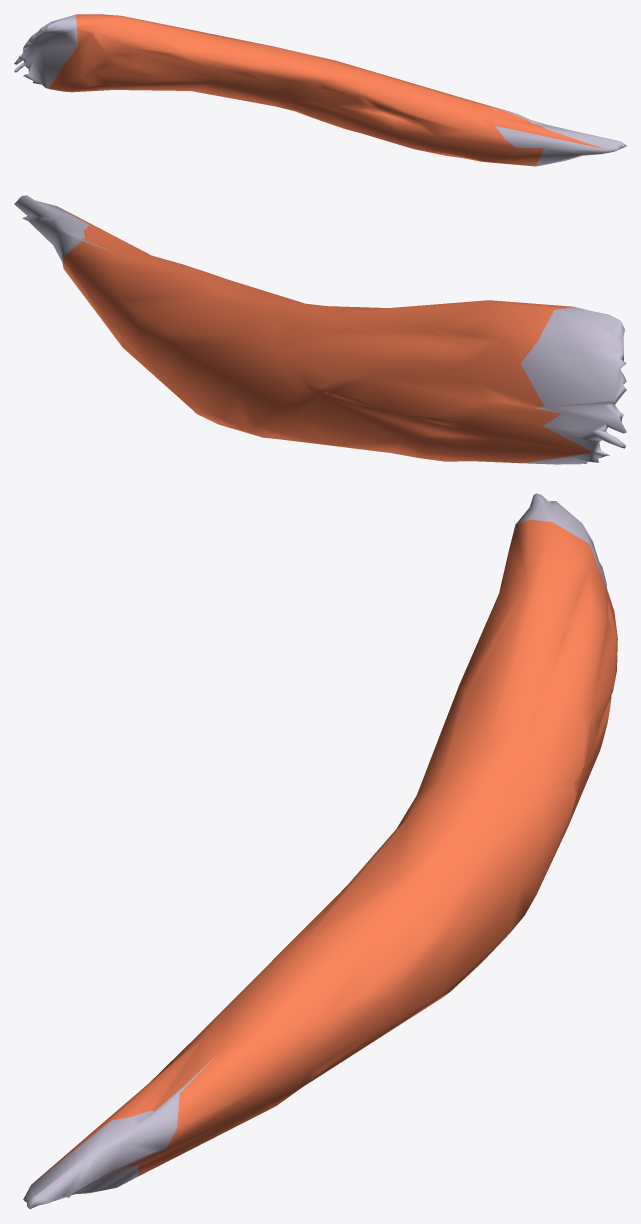
Rendered from Superior_gemellus_left.glb.
3 renders of one model, top to bottom at view 1: azimuth 30°, elevation 25°; view 2: azimuth 150°, elevation 25°; view 3: azimuth 270°, elevation 25°, orthographic. The views are drawn at different scales.
Parts seen in each view (by area): view 1: Superior_gemellus_muscle.l_Generated_Mesh_From_X3D.178; view 2: Superior_gemellus_muscle.l_Generated_Mesh_From_X3D.178; view 3: Superior_gemellus_muscle.l_Generated_Mesh_From_X3D.178.
Part boxes in pixels (x1,y1,x2,y2): Superior_gemellus_muscle.l_Generated_Mesh_From_X3D.178: (14, 14, 626, 166); Superior_gemellus_muscle.l_Generated_Mesh_From_X3D.178: (14, 195, 626, 464); Superior_gemellus_muscle.l_Generated_Mesh_From_X3D.178: (23, 493, 617, 1209).
Bounding box in the file's own units: 0.0837 × 0.0272 × 0.0458.
